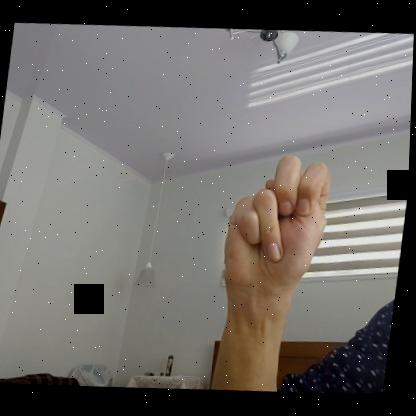N: (217, 150, 338, 311)
